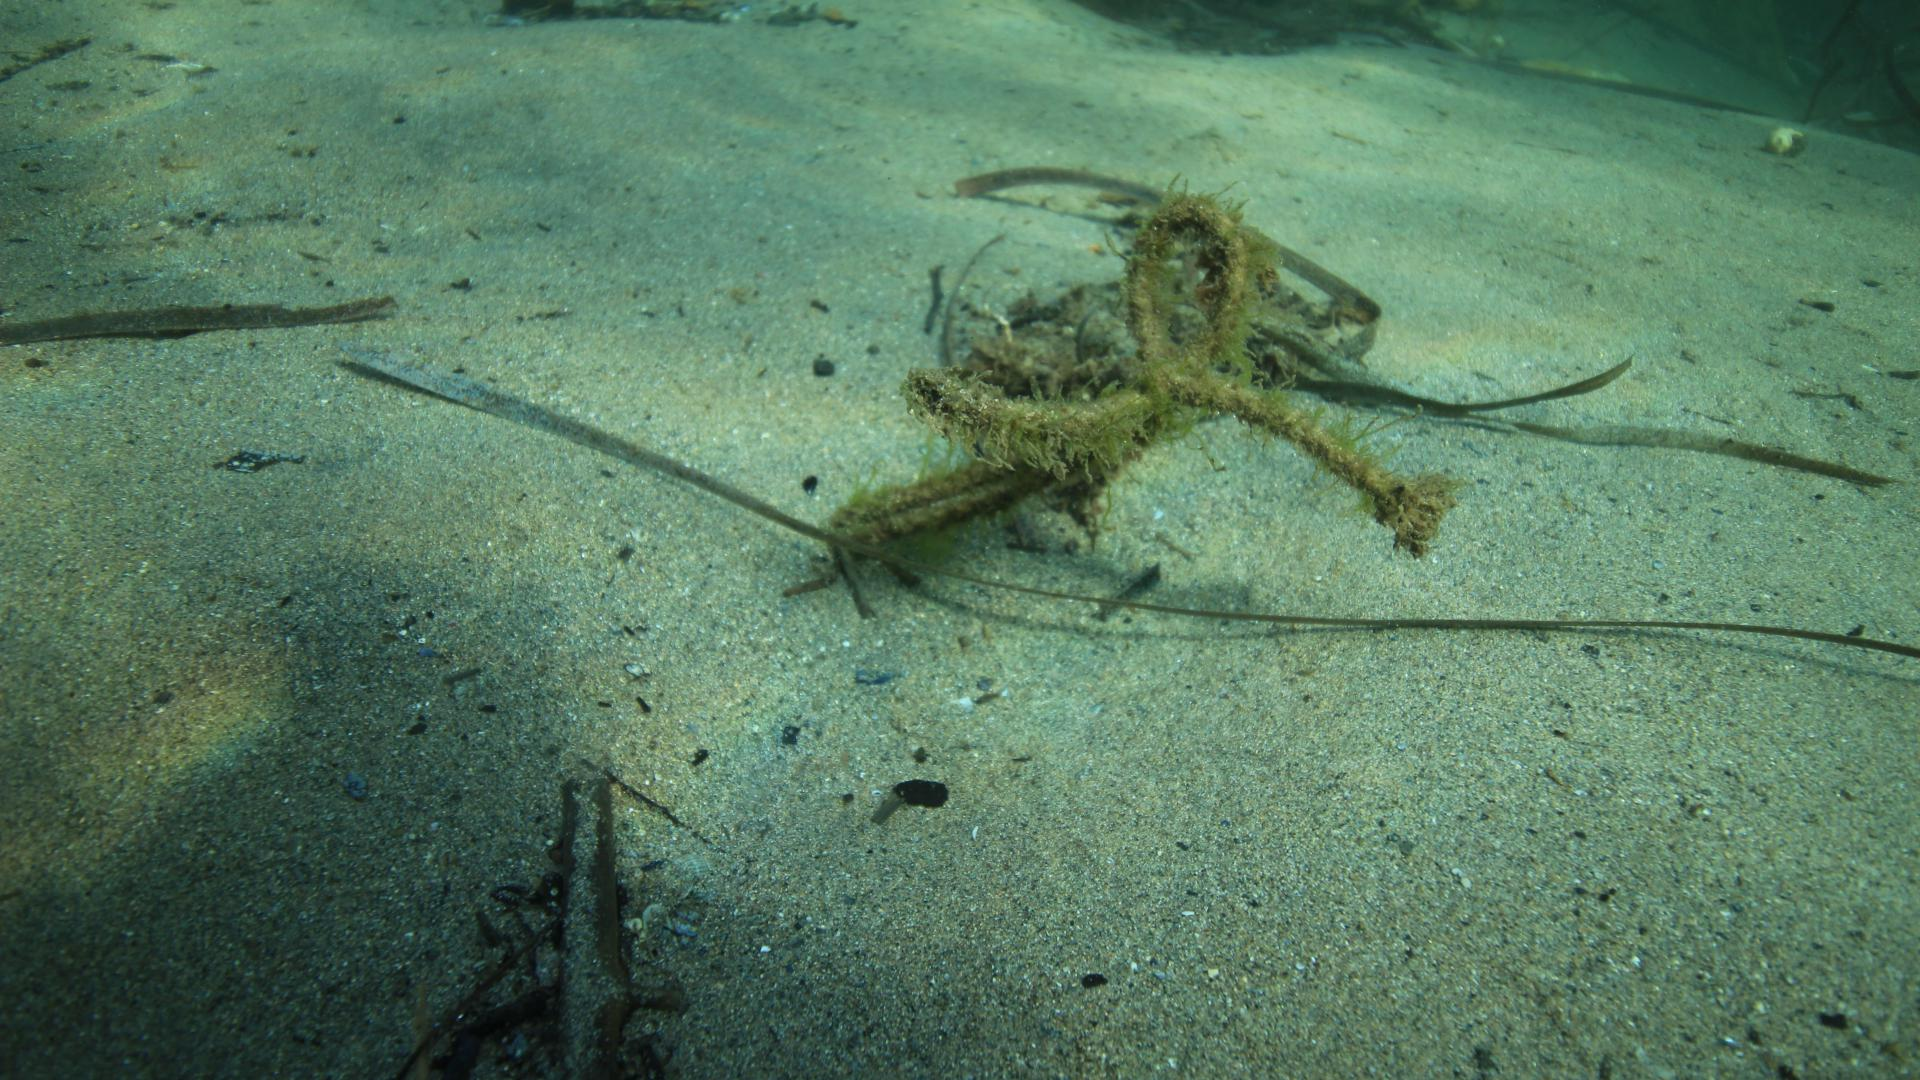bundle of ropes: (825, 181, 1462, 562)
